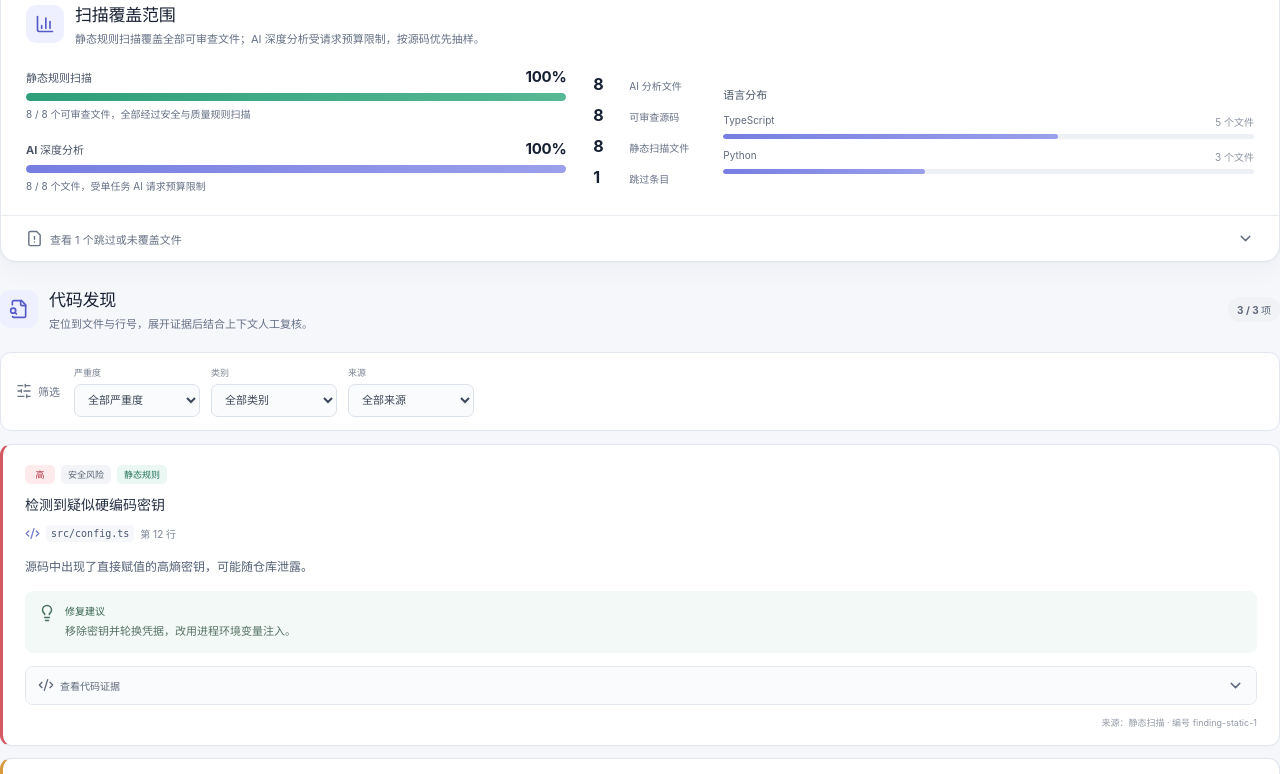
ReviewDetailPage › 按严重度、类别和来源筛选并展开代码证据
(page scrolled)
expect the heading "检测到疑似硬编码密钥" is shown: met, box [25, 496, 165, 513]
Select "高" in the dropdown labelled "严重度" at (137, 400), box [74, 384, 200, 417]
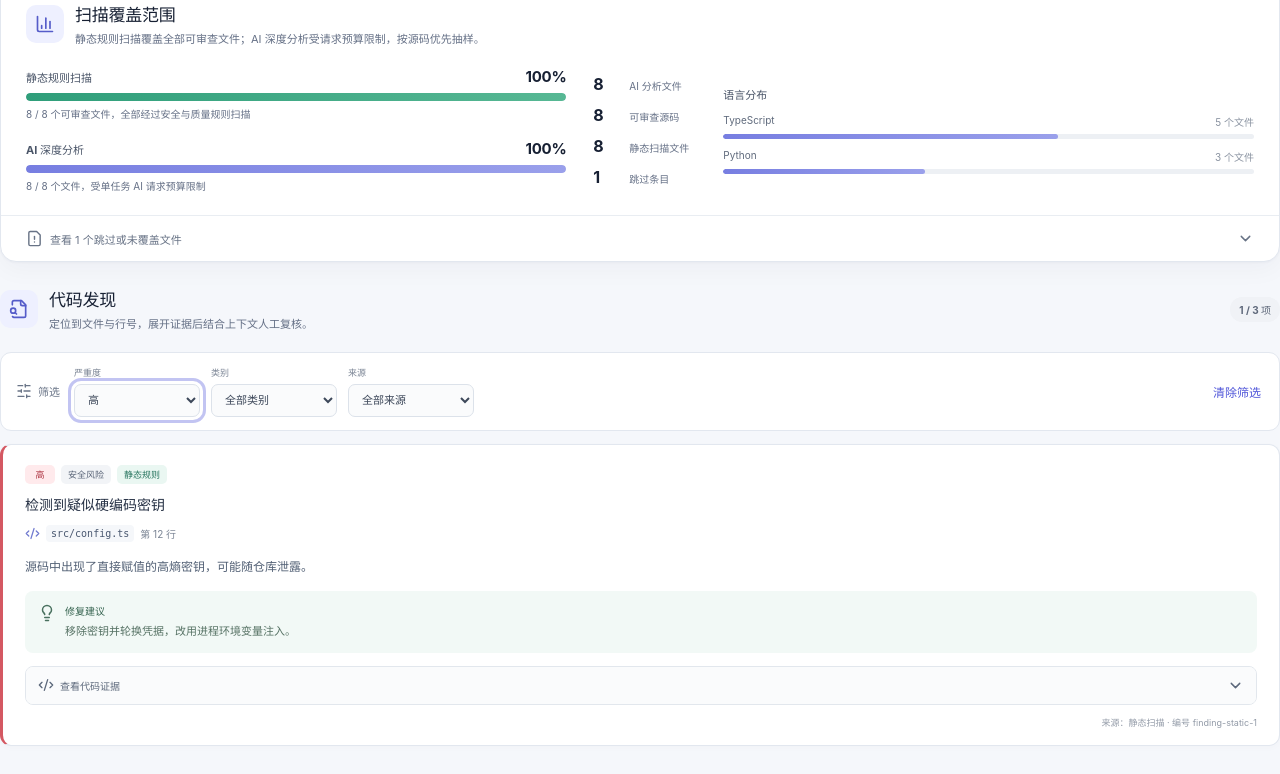
expect the heading "检测到疑似硬编码密钥" is shown: met, box [25, 496, 165, 513]
Click the heading "查看代码证据" at (90, 686), box [26, 667, 1256, 704]
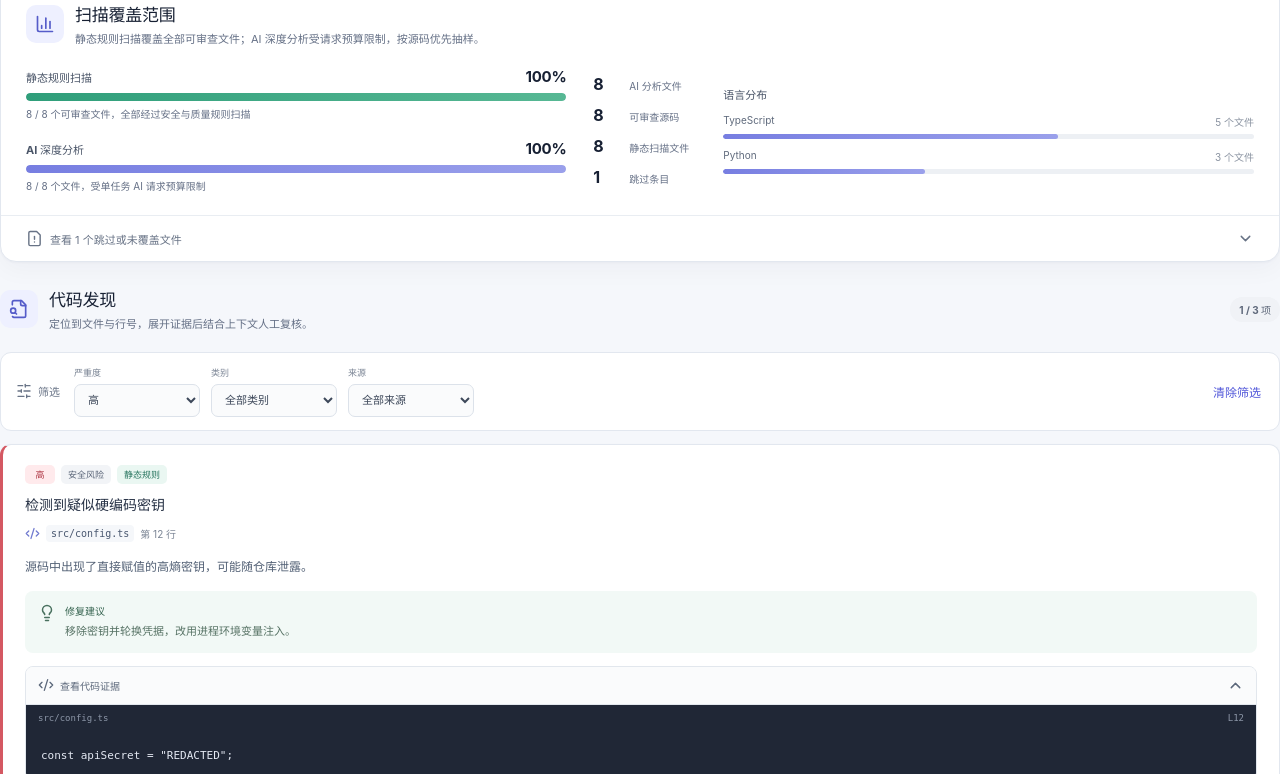
expect the text "const apiSecret = \"REDACTED\";" is shown: met, box [41, 749, 233, 762]
Click the button "清除筛选" at (1237, 391), box [1210, 380, 1264, 403]
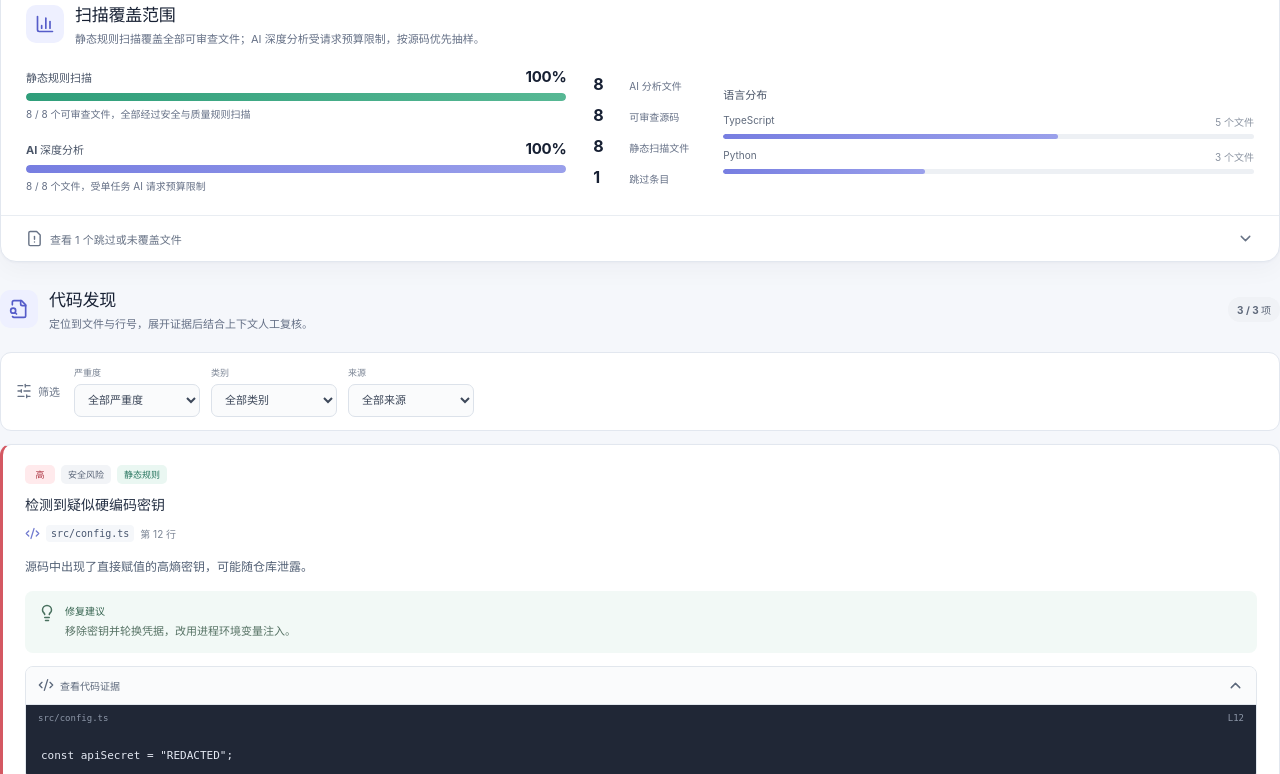
Select "设计问题" in the dropdown labelled "类别" at (274, 400), box [211, 384, 337, 417]
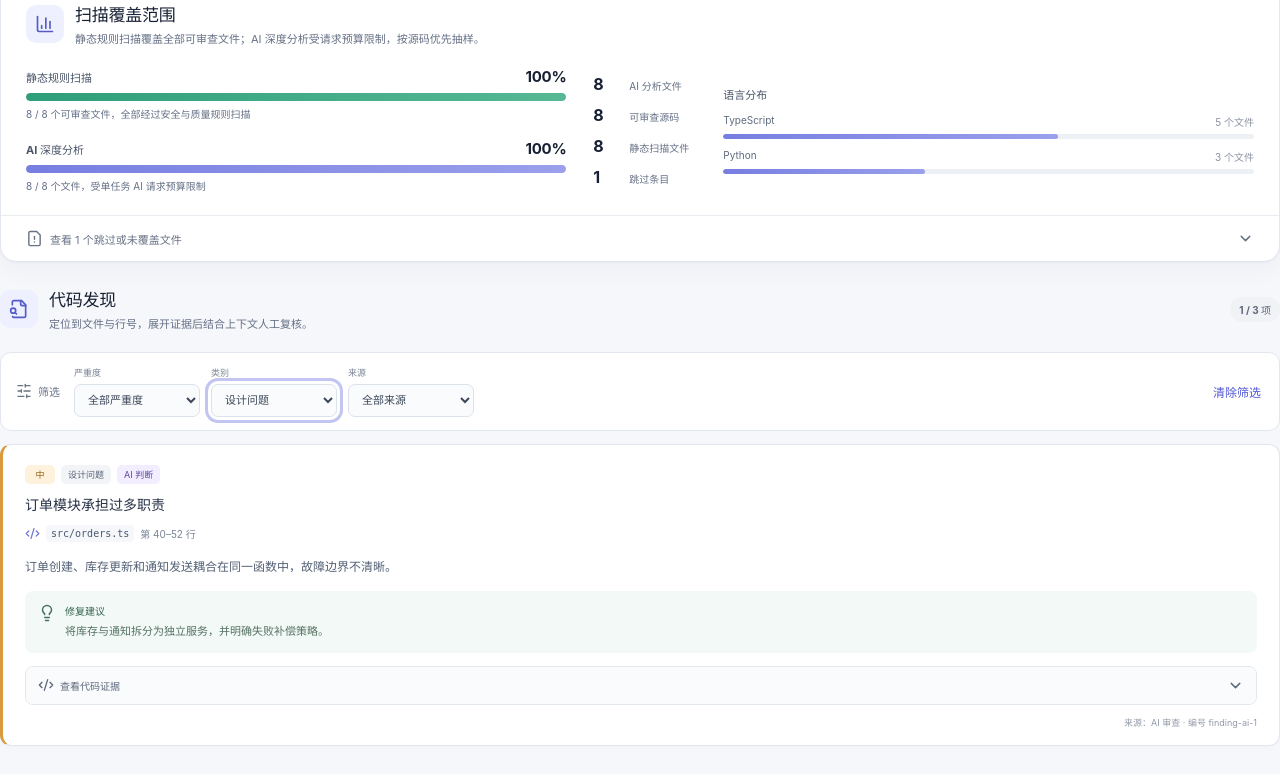
expect the heading "订单模块承担过多职责" is shown: met, box [25, 496, 165, 513]
expect the heading "检测到疑似硬编码密钥" is gone: met
Click the button "清除筛选" at (1237, 391), box [1210, 380, 1264, 403]
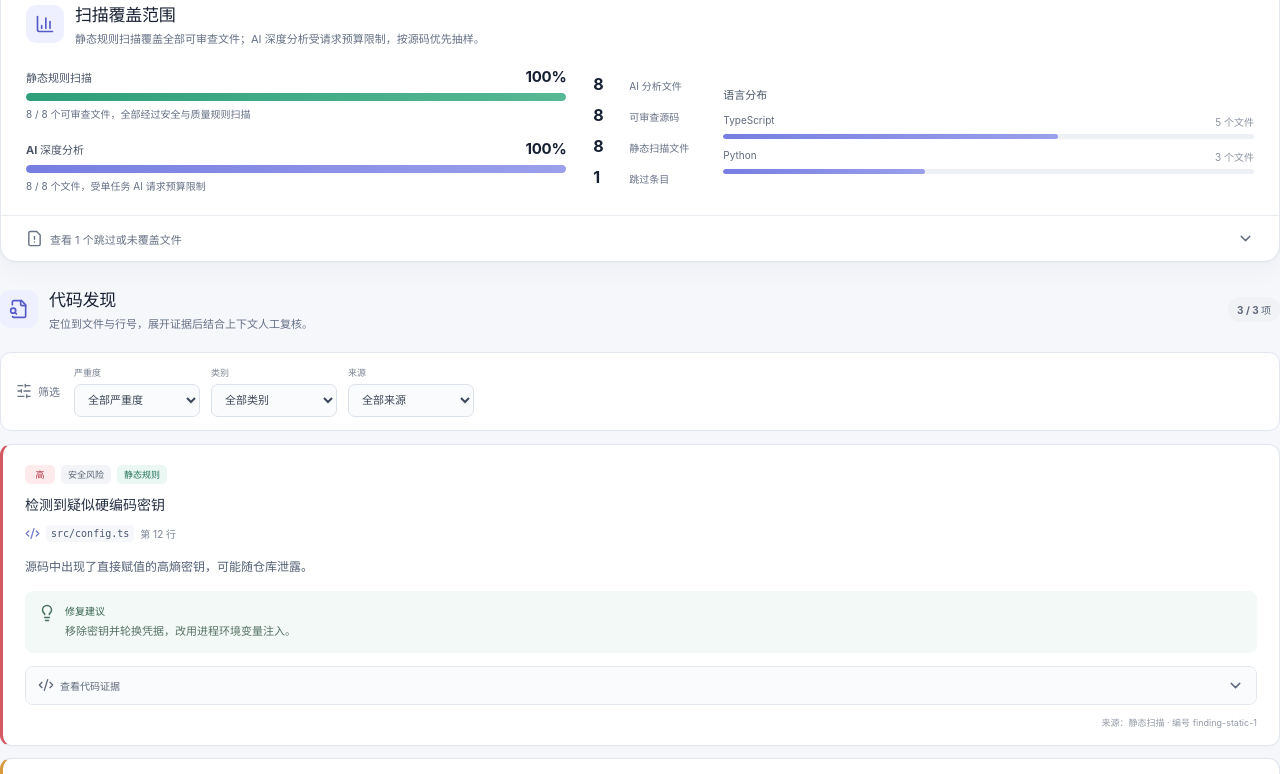
Select "静态扫描" in the dropdown labelled "来源" at (411, 400), box [348, 384, 474, 417]
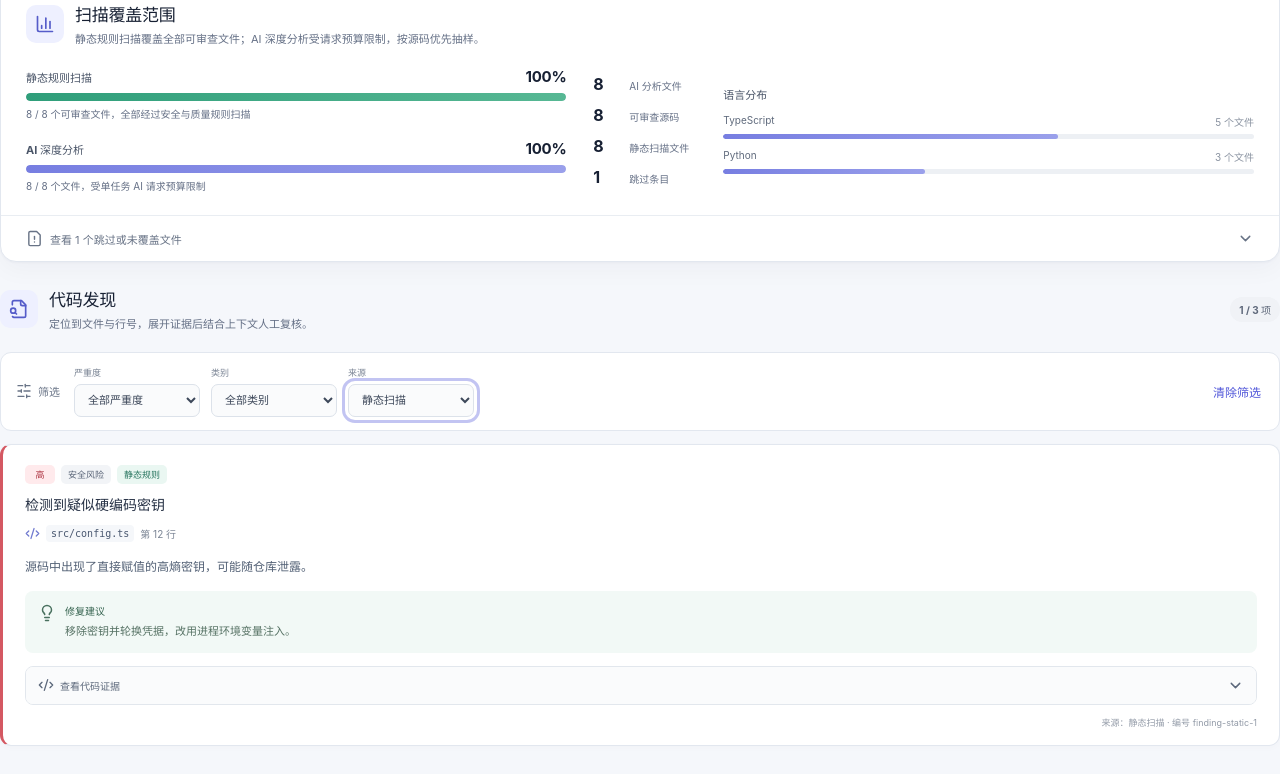
expect the heading "检测到疑似硬编码密钥" is shown: met, box [25, 496, 165, 513]
expect the text "1 / 3 项" is shown: met, box [1230, 297, 1279, 322]
